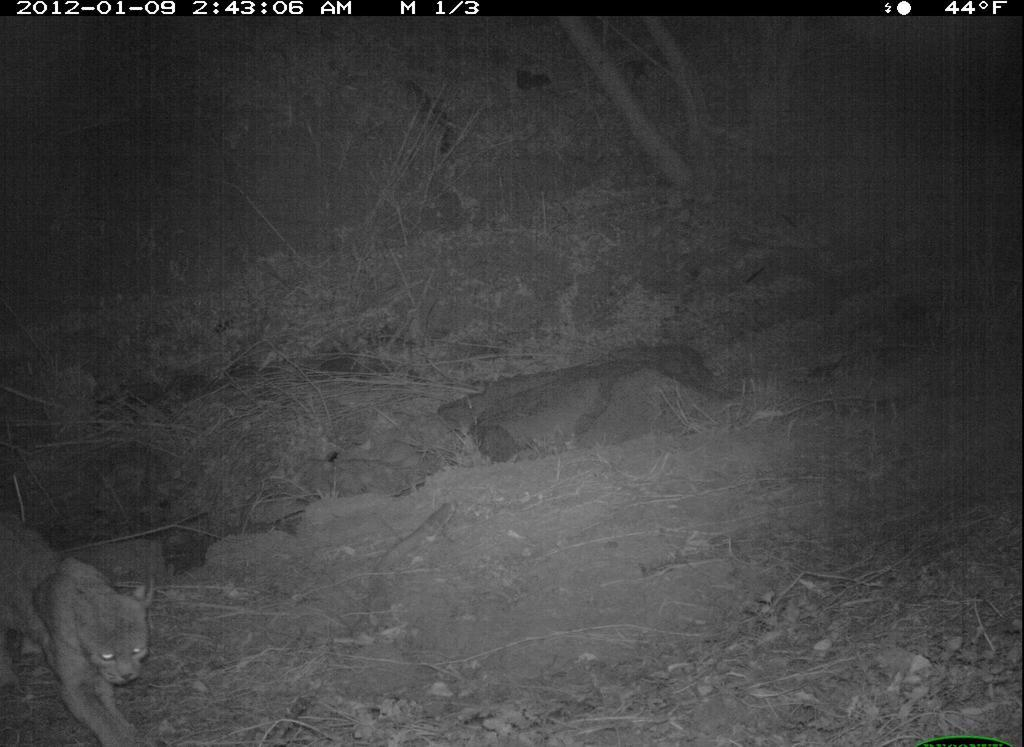bobcat: (3, 504, 185, 747)
